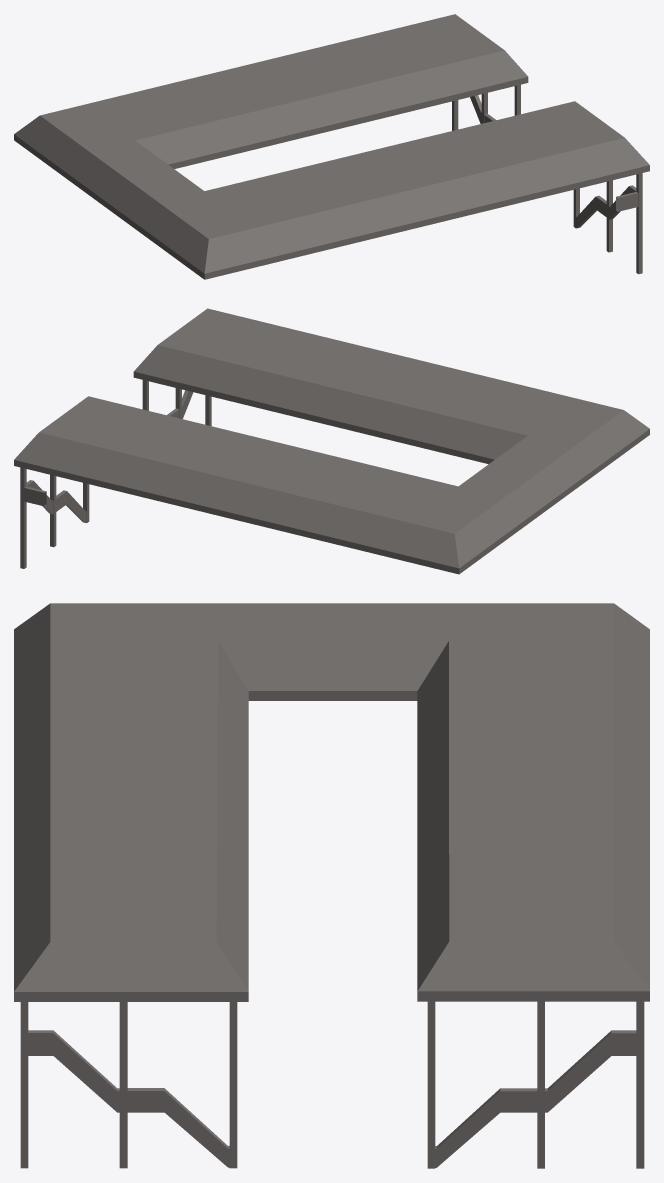
Rendered from Teto 1.fbx.
The picture shows the model from 3 angles, top to bottom: view 1: azimuth 30°, elevation 25°; view 2: azimuth 150°, elevation 25°; view 3: azimuth 270°, elevation 25°; orthographic projection. The views are drawn at different scales.
Parts seen in each view (by area): view 1: pCube10; view 2: pCube10; view 3: pCube10.
Part boxes in pixels (bbox=[...]): pCube10: bbox=[14, 14, 649, 279]; pCube10: bbox=[14, 308, 649, 574]; pCube10: bbox=[14, 603, 649, 1168].
Size of the model in its own units: 457 by 129 by 339.
1 material, 1 textured.
